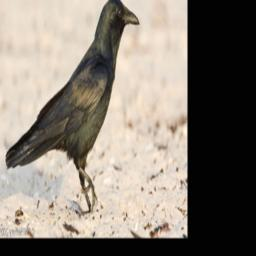Crow: (4, 0, 141, 213)
